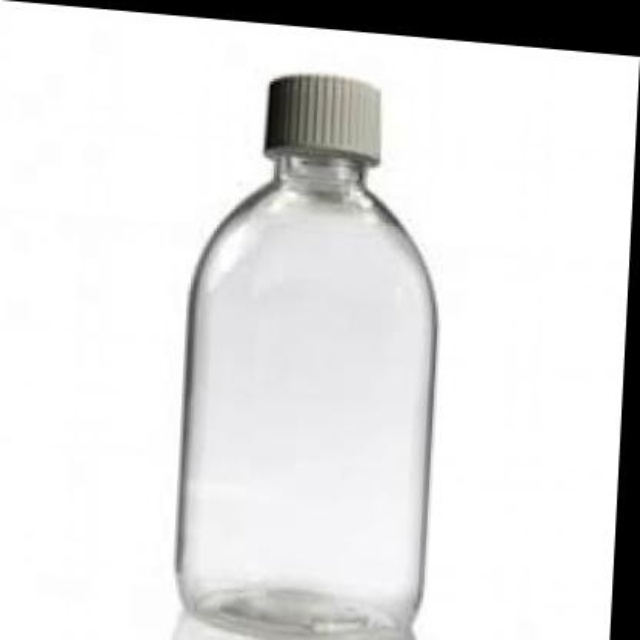trash: (175, 74, 435, 638)
